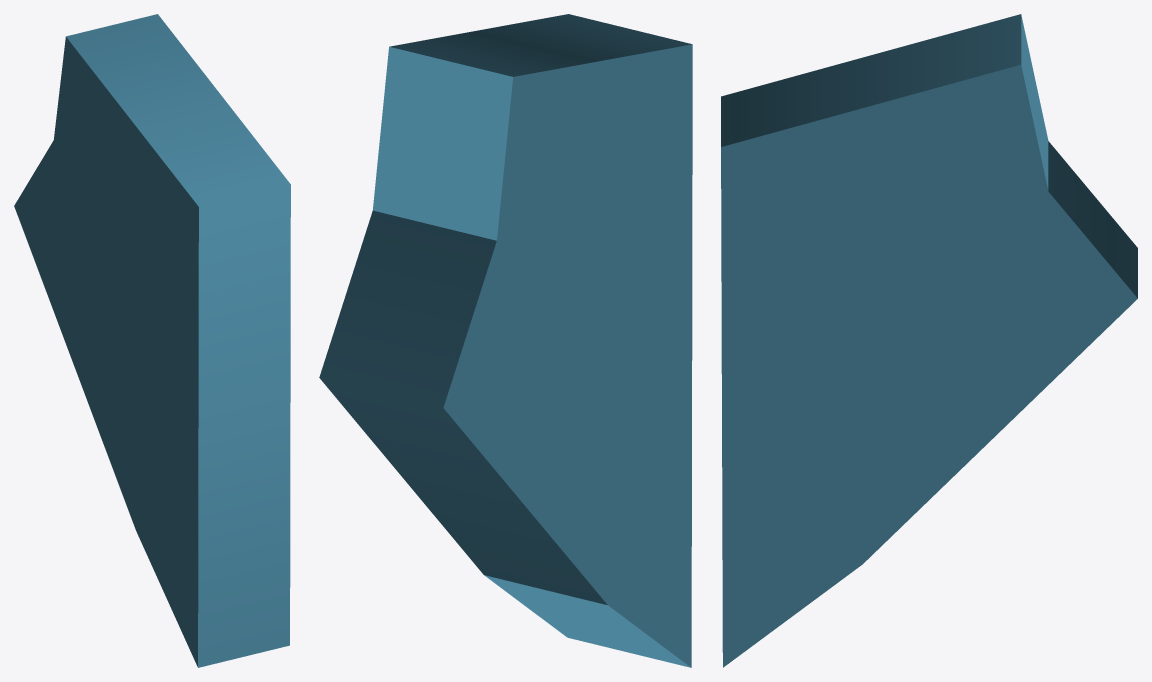
The model's file is NexusC_Trigger_9.fbx.
3 views of the same model, side by side, from view 1: azimuth 30°, elevation 25°; view 2: azimuth 150°, elevation 25°; view 3: azimuth 270°, elevation 25° (orthographic). The views are drawn at different scales.
Visible parts, largest first — view 1: polySurface76; view 2: polySurface76; view 3: polySurface76.
Part boxes in pixels (box(x1,y1,x2,y2)): polySurface76: box(14, 14, 290, 667); polySurface76: box(319, 14, 692, 667); polySurface76: box(721, 14, 1137, 667).
Size of the model in its own units: 9.22 by 51.2 by 32.07.
